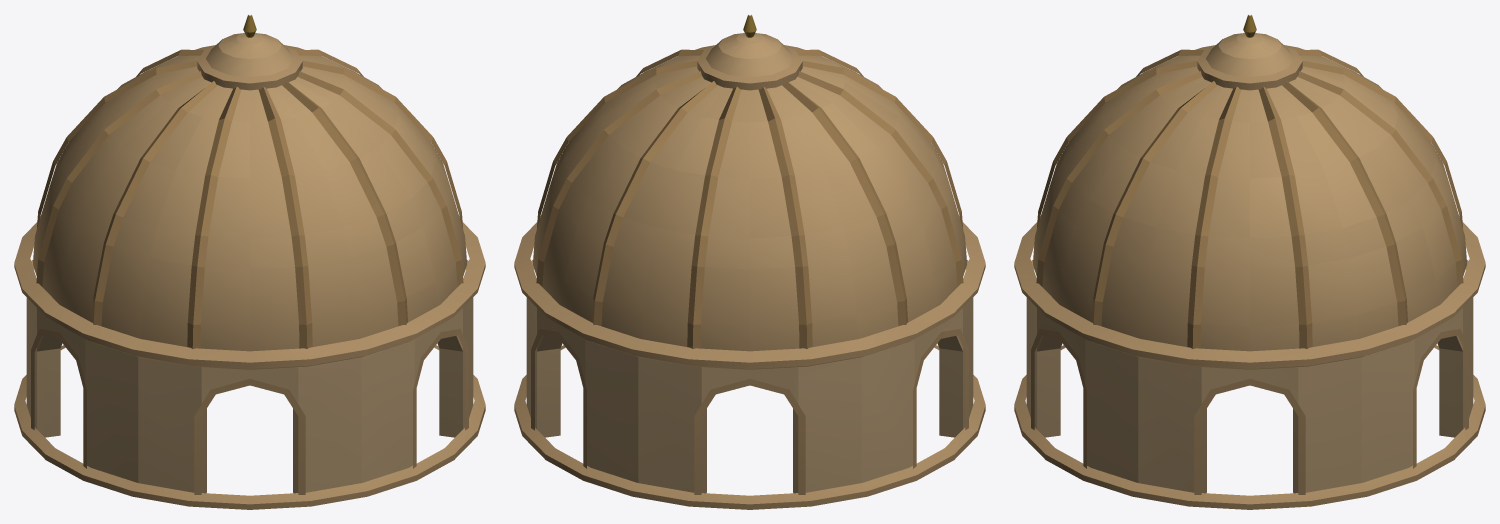
File: dome.whole_12.sandstone.glb
3 views of the same model, side by side, from view 1: azimuth 30°, elevation 25°; view 2: azimuth 150°, elevation 25°; view 3: azimuth 270°, elevation 25° (orthographic).
Parts seen in each view (by area): view 1: dome_whole_12_sandstone; view 2: dome_whole_12_sandstone; view 3: dome_whole_12_sandstone.
Part boxes in pixels (x1,y1,x2,y2): dome_whole_12_sandstone: (14,15,485,509); dome_whole_12_sandstone: (514,15,985,509); dome_whole_12_sandstone: (1014,15,1485,509).
Size of what is drawn, in the model's own units: 7.6 by 7.03 by 7.6.
